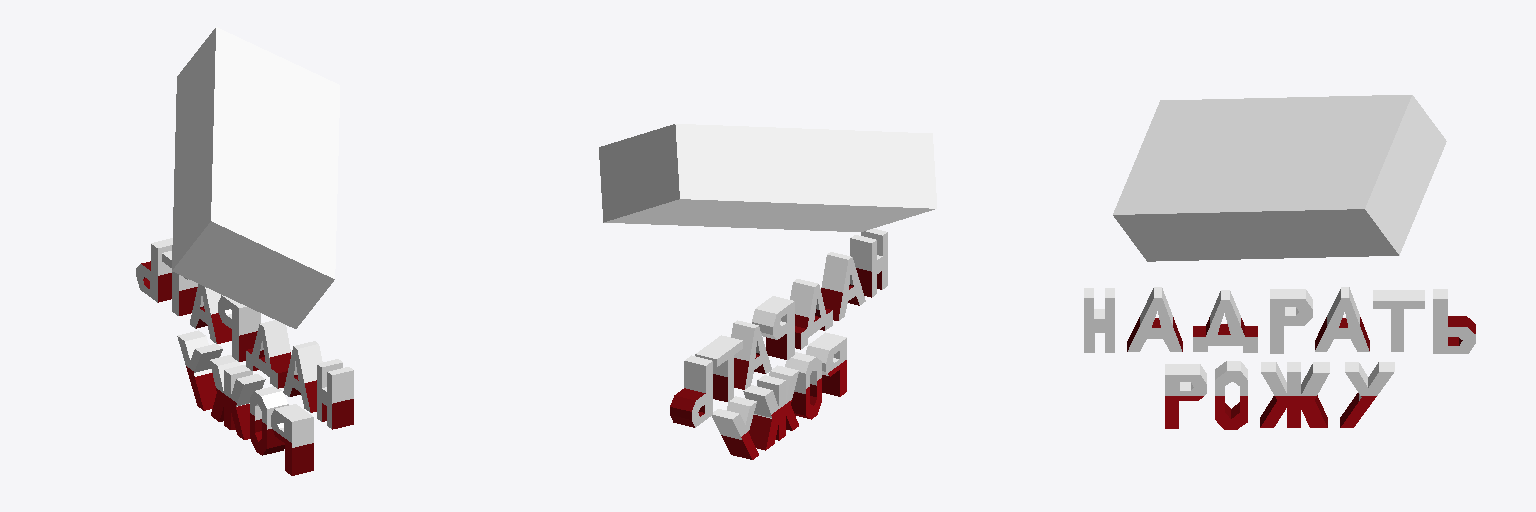
The picture shows the model from 3 angles: view 1: azimuth 30°, elevation 25°; view 2: azimuth 150°, elevation 25°; view 3: azimuth 270°, elevation 25°; orthographic projection.
Size of the model in its own units: 54.51 by 71.6 by 72.97.
1 materials, 1 textured.